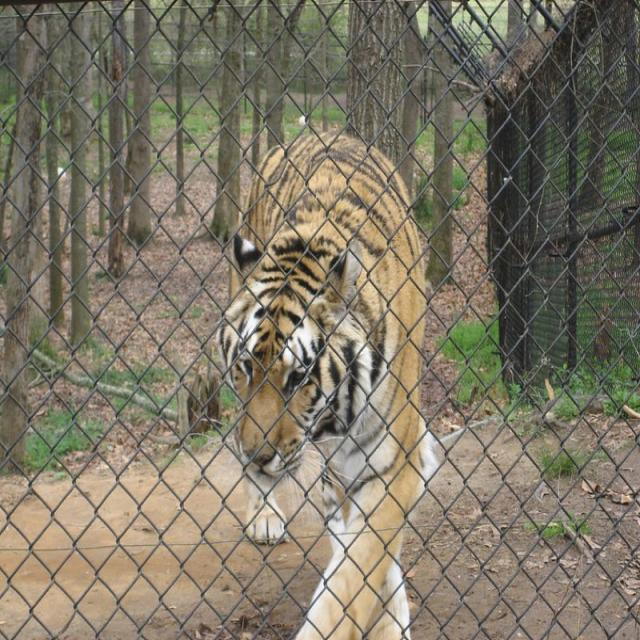Tiger: (221, 132, 426, 639)
